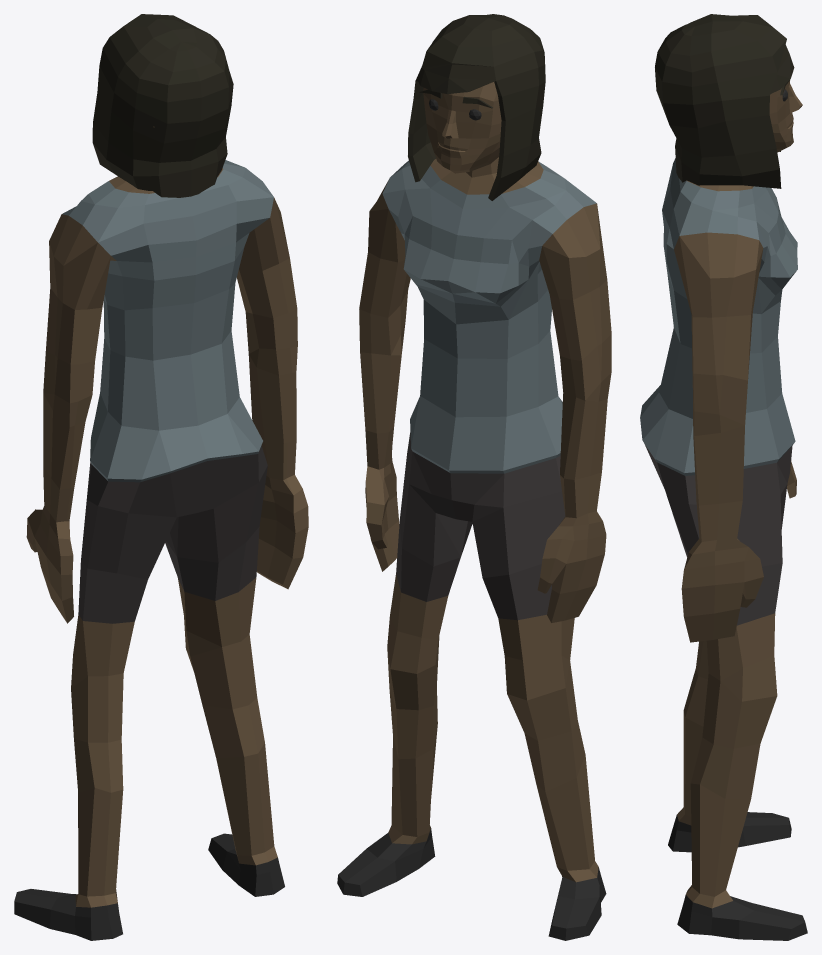
Rendered from Female_TankTop.glb.
The picture shows the model from 3 angles, left to right: view 1: azimuth 30°, elevation 25°; view 2: azimuth 150°, elevation 25°; view 3: azimuth 270°, elevation 25°; orthographic projection.
Visible parts, largest first — view 1: Female_TankTop; view 2: Female_TankTop; view 3: Female_TankTop.
Part boxes in pixels (x1=…): Female_TankTop: x1=14, y1=14, x2=308, y2=940; Female_TankTop: x1=337, y1=14, x2=611, y2=940; Female_TankTop: x1=640, y1=14, x2=807, y2=940.
Size of the model in its own units: 1.4 by 4.65 by 0.8177.
